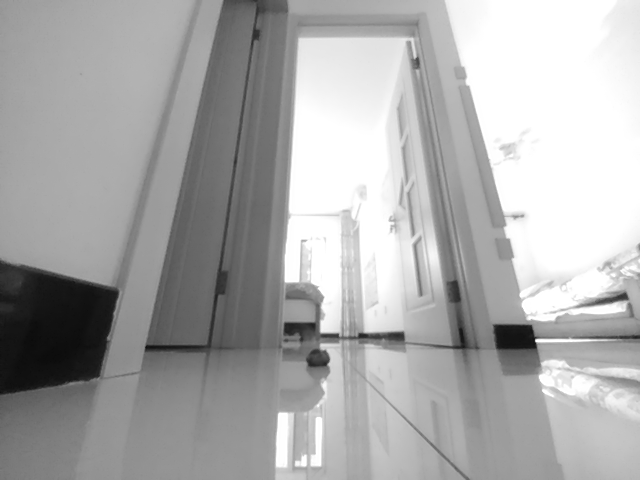curtain: (339, 208, 363, 341)
pet feces: (305, 349, 329, 368)
